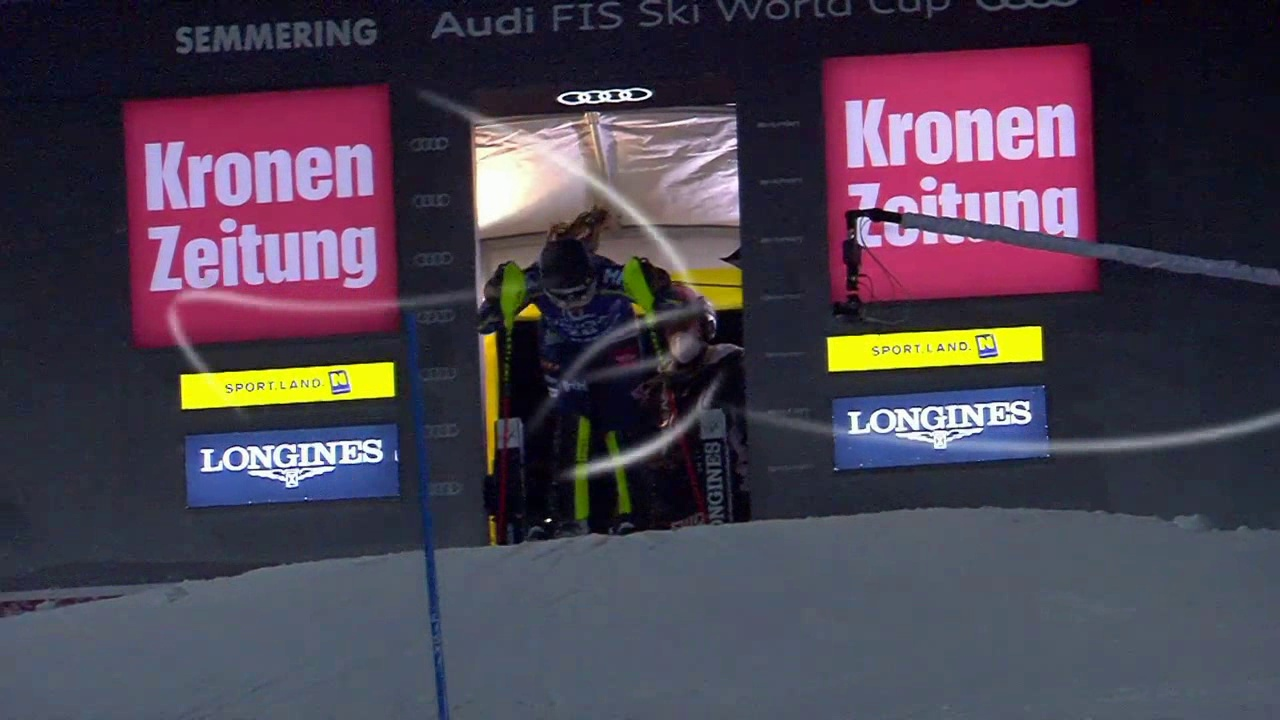audi: (546, 85, 663, 111), (971, 1, 1096, 22), (396, 133, 460, 161), (404, 248, 465, 276), (407, 192, 460, 217), (417, 365, 465, 389), (427, 478, 469, 504)
kronenzeitung: (156, 110, 374, 314), (860, 77, 1077, 235)
longines: (197, 428, 392, 500), (838, 393, 1046, 456), (696, 434, 741, 528)
